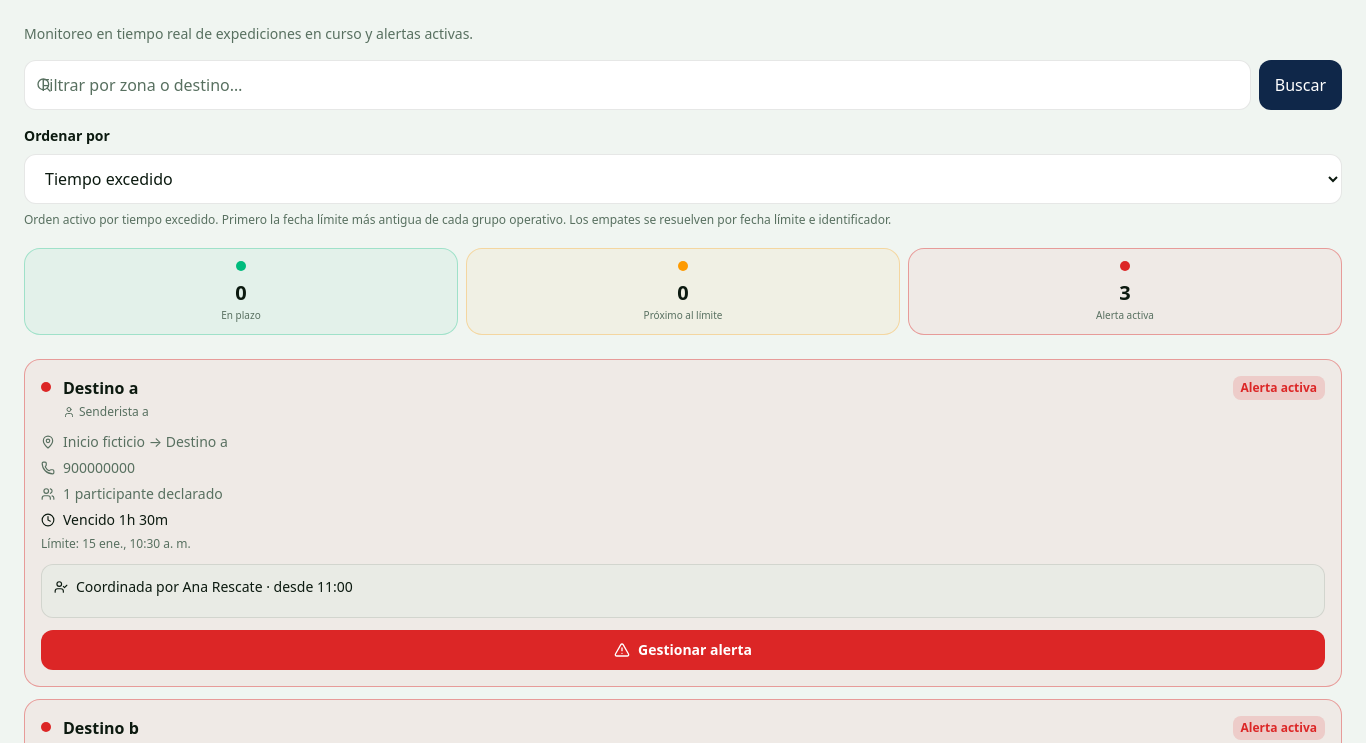
HU-43: prioridad en la consola de rescate › combina el criterio con la zona y mantiene la selección al limpiar el filtro
Later steps or results of the test are not shown.
Type "  Valle & río  " into the search field with placeholder "Filtrar por zona o destino…".
click(637, 85); type("  Valle & río  ")  # box [24, 60, 1251, 110]
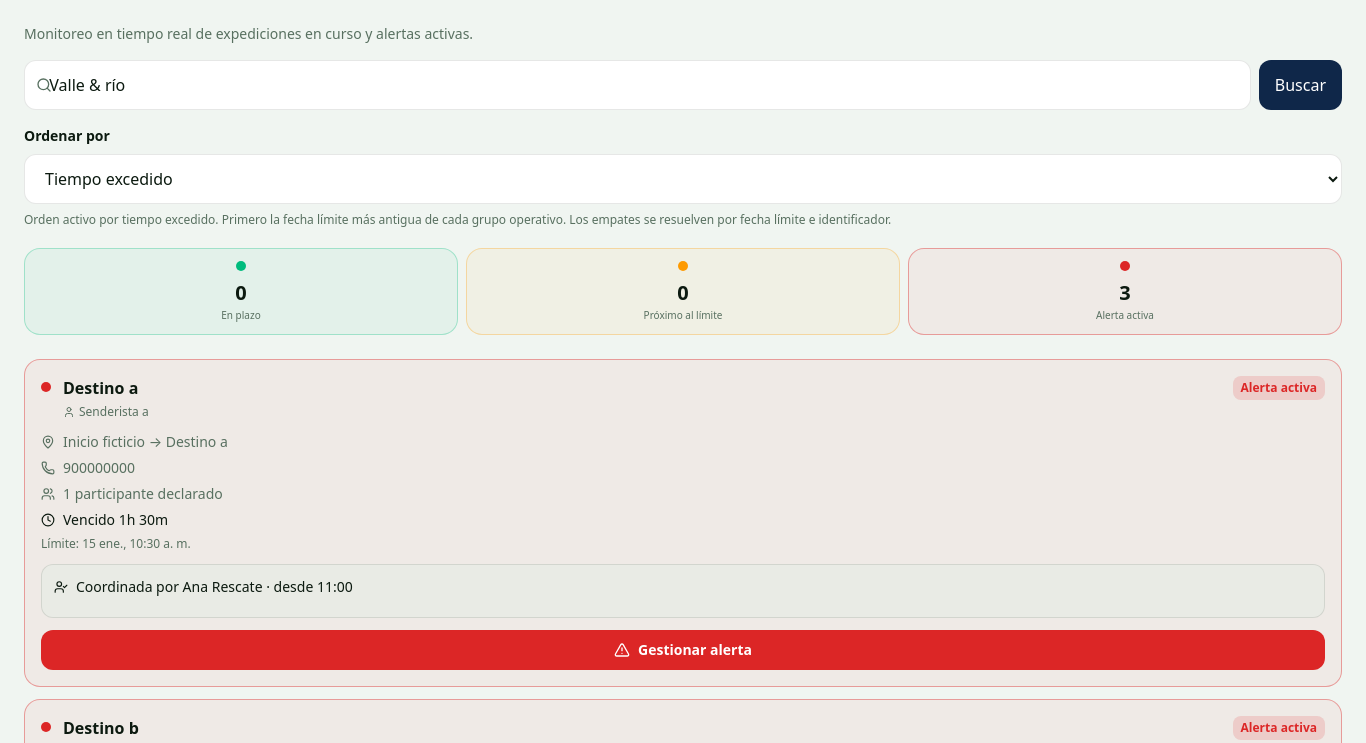
Submit the form, box [24, 60, 1342, 110]
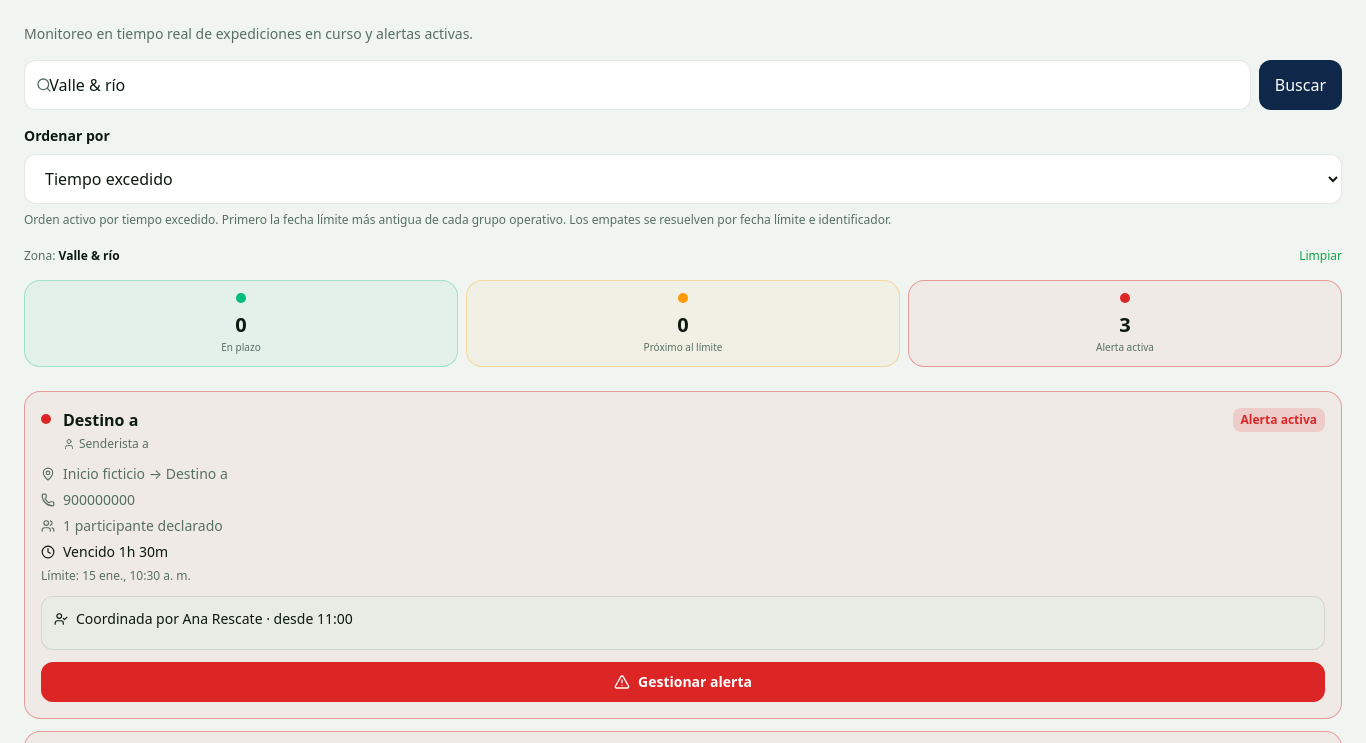
Select "Participantes declarados" in the dropdown labelled "Ordenar por" at (683, 179), box [24, 154, 1342, 204]
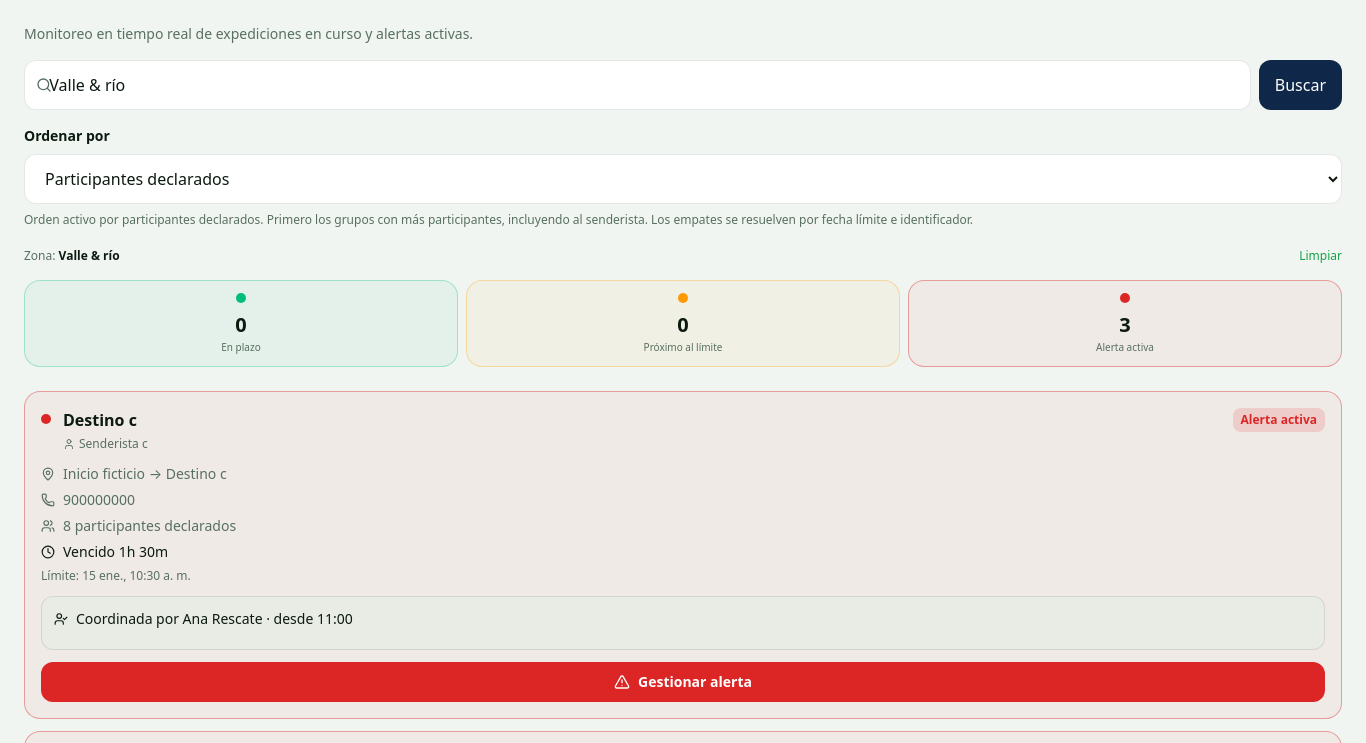
Expected: the text "Valle & río" is shown, [59, 247, 120, 264]
